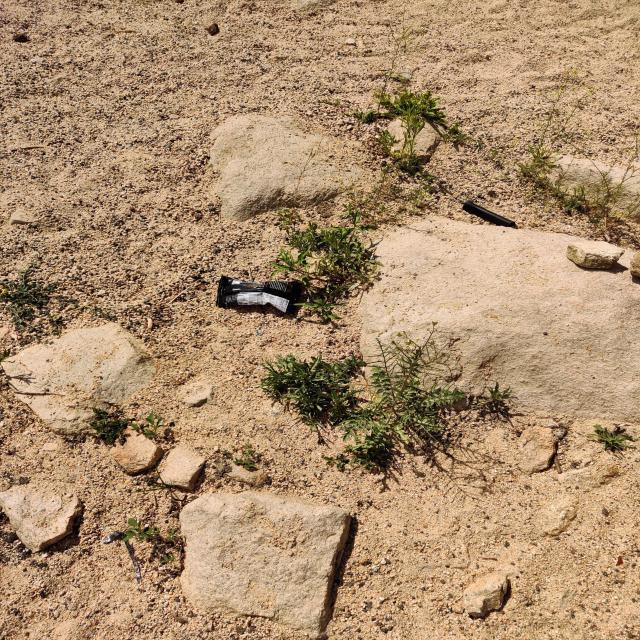litter: (215, 273, 308, 320)
